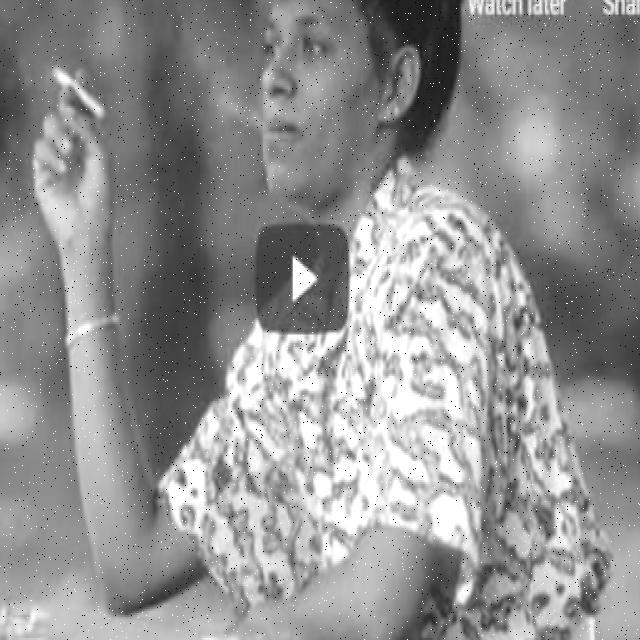face_no_mask: (261, 0, 414, 205)
